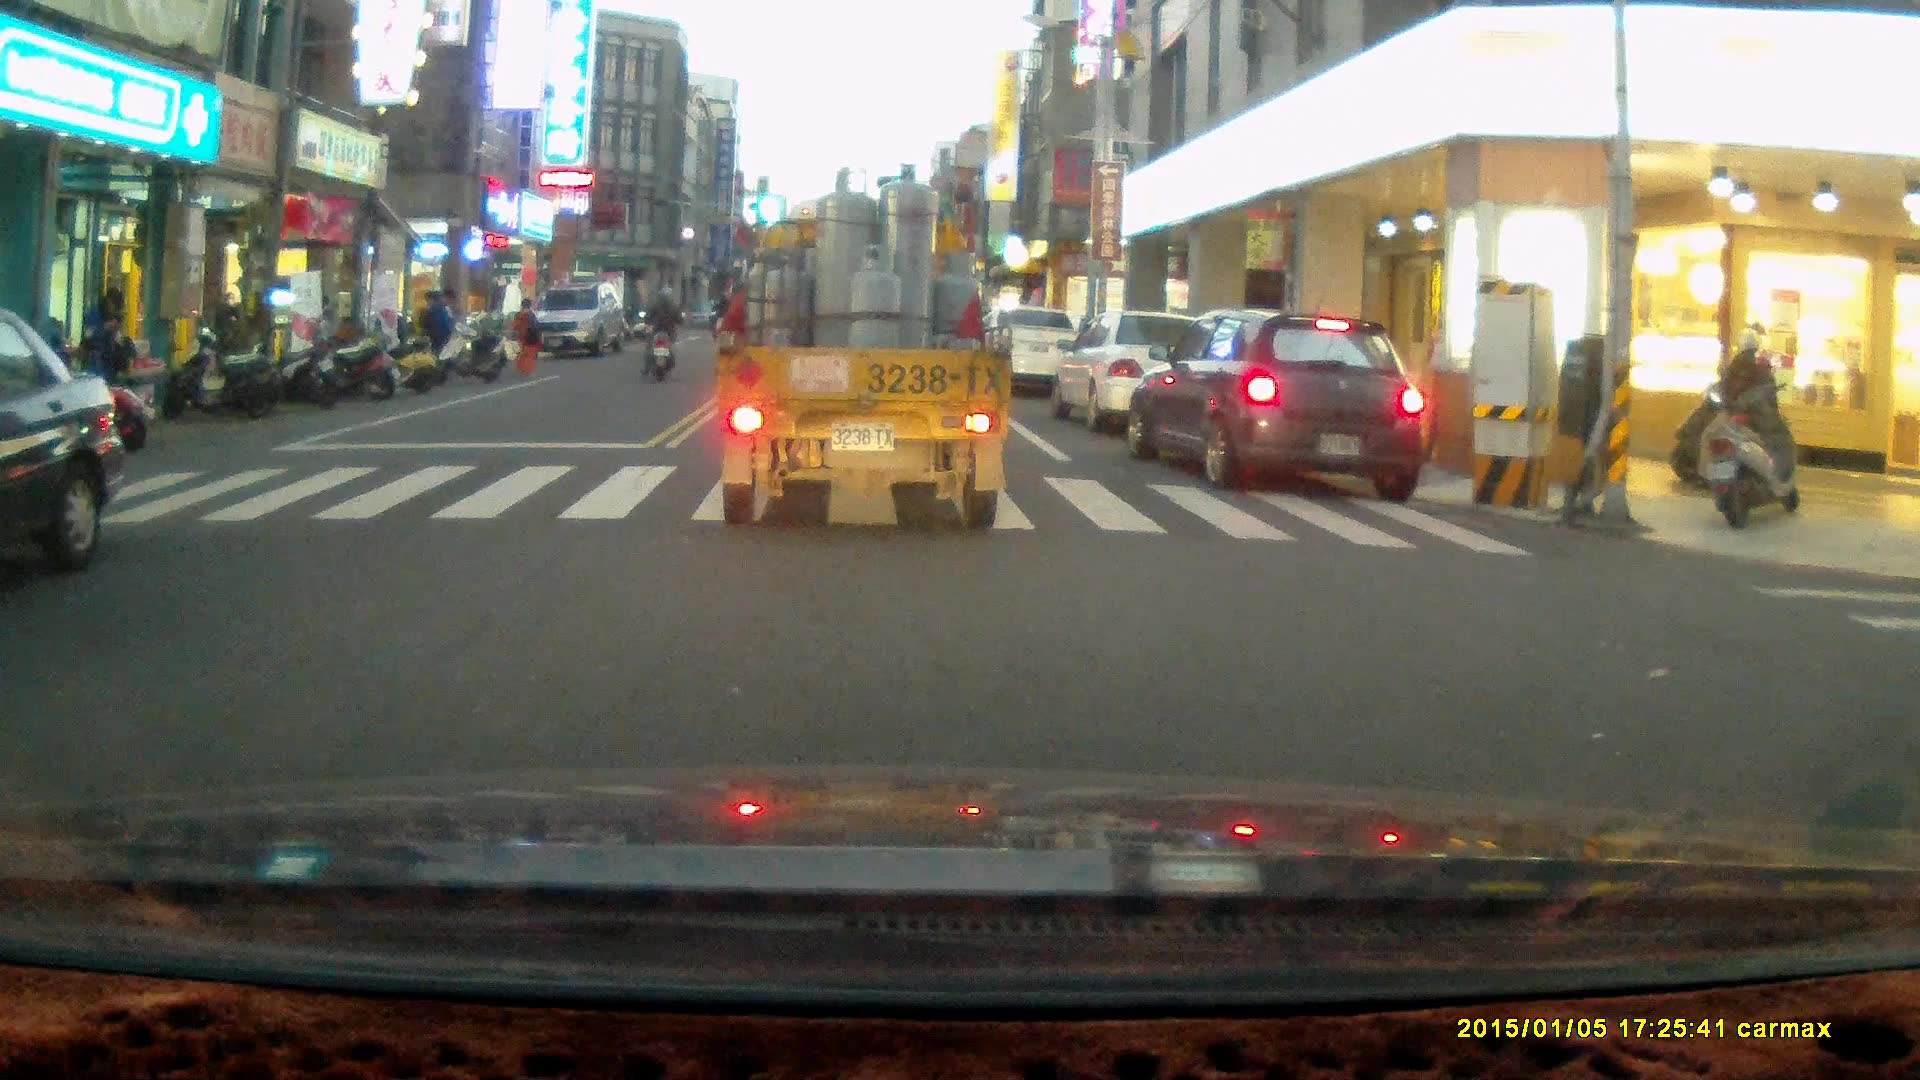pedestrian: (77, 282, 138, 407), (421, 284, 458, 374), (216, 290, 246, 380), (512, 295, 544, 373)
rider: (1668, 324, 1792, 499), (636, 280, 684, 378)
vehicle: (718, 159, 1015, 532), (1119, 309, 1434, 499), (1, 308, 133, 574), (1058, 307, 1237, 430), (976, 306, 1096, 401), (528, 283, 628, 358)
